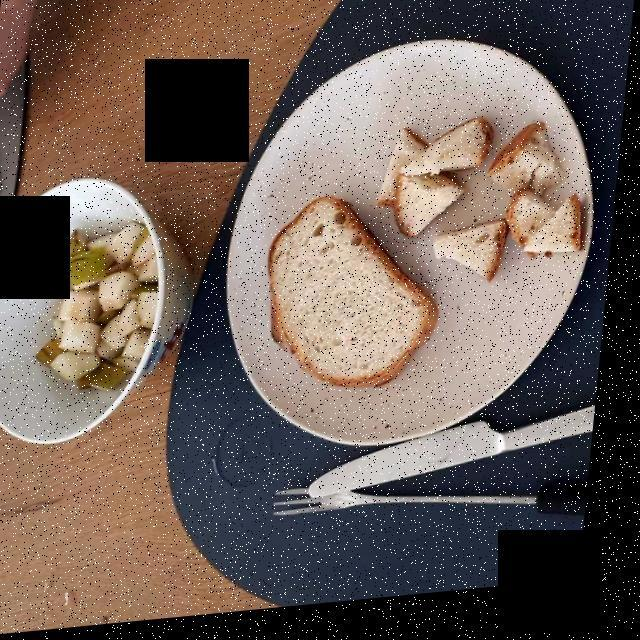bread: (265, 104, 584, 385)
pear: (45, 226, 159, 397)
